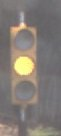Yellow: (7, 18, 47, 114)
